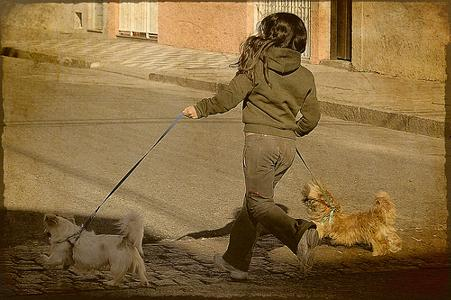person: (183, 13, 322, 279)
